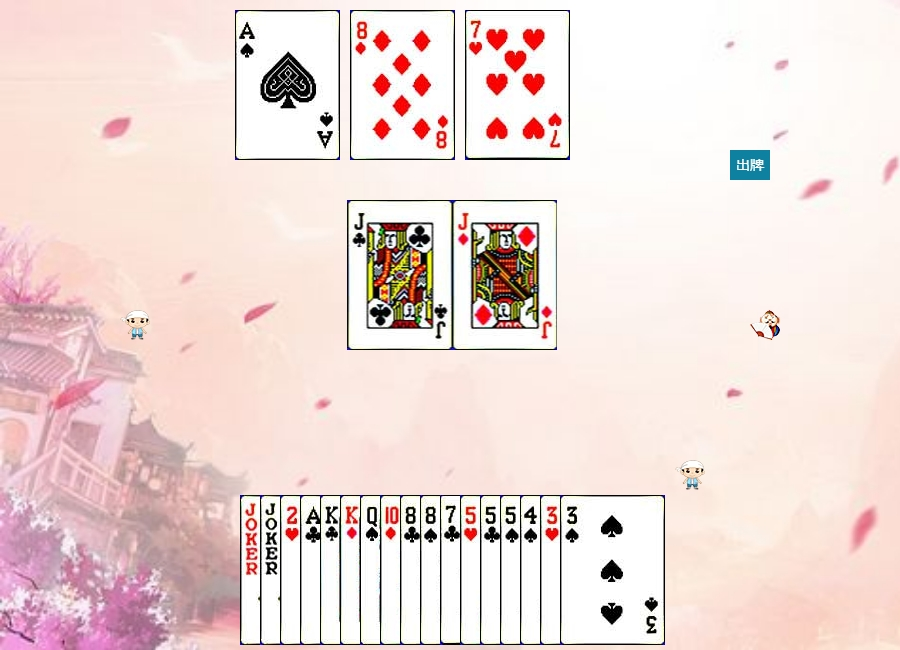10~1: (380, 495, 485, 645)
11~1: (453, 200, 558, 350)
11~2: (348, 200, 453, 350)
12~4: (360, 495, 465, 645)
13~1: (340, 495, 445, 645)
13~2: (320, 495, 425, 645)
14~2: (300, 495, 405, 645)
14~4: (235, 10, 340, 160)
15~3: (280, 495, 385, 645)
17~3: (260, 495, 365, 645)
18~4: (240, 495, 345, 645)
3~3: (540, 495, 645, 645)
3~4: (560, 495, 665, 645)
4~4: (520, 495, 625, 645)
5~2: (480, 495, 585, 645)
5~3: (460, 495, 565, 645)
5~4: (500, 495, 605, 645)
7~2: (440, 495, 545, 645)
7~3: (465, 10, 570, 160)
8~1: (350, 10, 455, 160)
8~2: (400, 495, 505, 645)
8~4: (420, 495, 525, 645)
